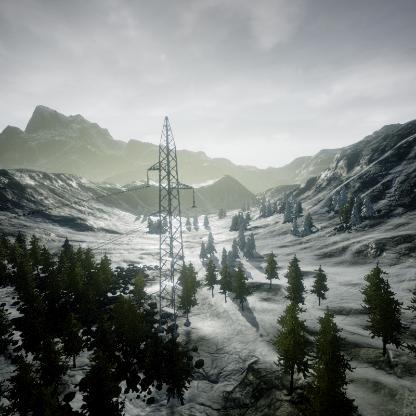tower: (144, 116, 198, 327)
